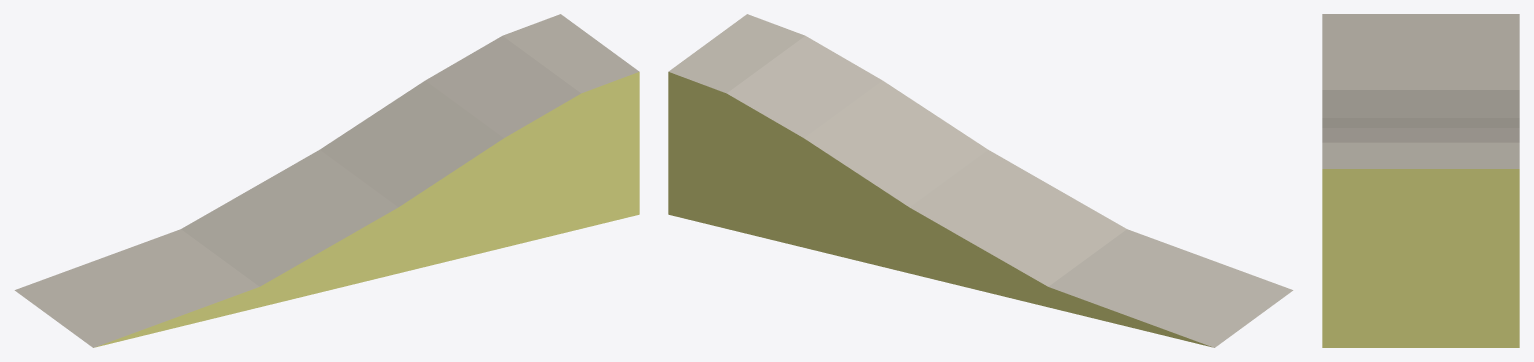
File: Floor_Incline_1x3.glb
The picture shows the model from 3 angles, left to right: view 1: azimuth 30°, elevation 25°; view 2: azimuth 150°, elevation 25°; view 3: azimuth 270°, elevation 25°; orthographic projection. The views are drawn at different scales.
Visible parts, largest first — view 1: Floor_Incline_1x3; view 2: Floor_Incline_1x3; view 3: Floor_Incline_1x3.
Boxes of the visible parts, box(x1,y1,x2,y2) form: Floor_Incline_1x3: box(14, 14, 639, 347); Floor_Incline_1x3: box(668, 14, 1293, 347); Floor_Incline_1x3: box(1322, 14, 1519, 347).
Bounding box in the file's own units: 400 × 100 × 100.
